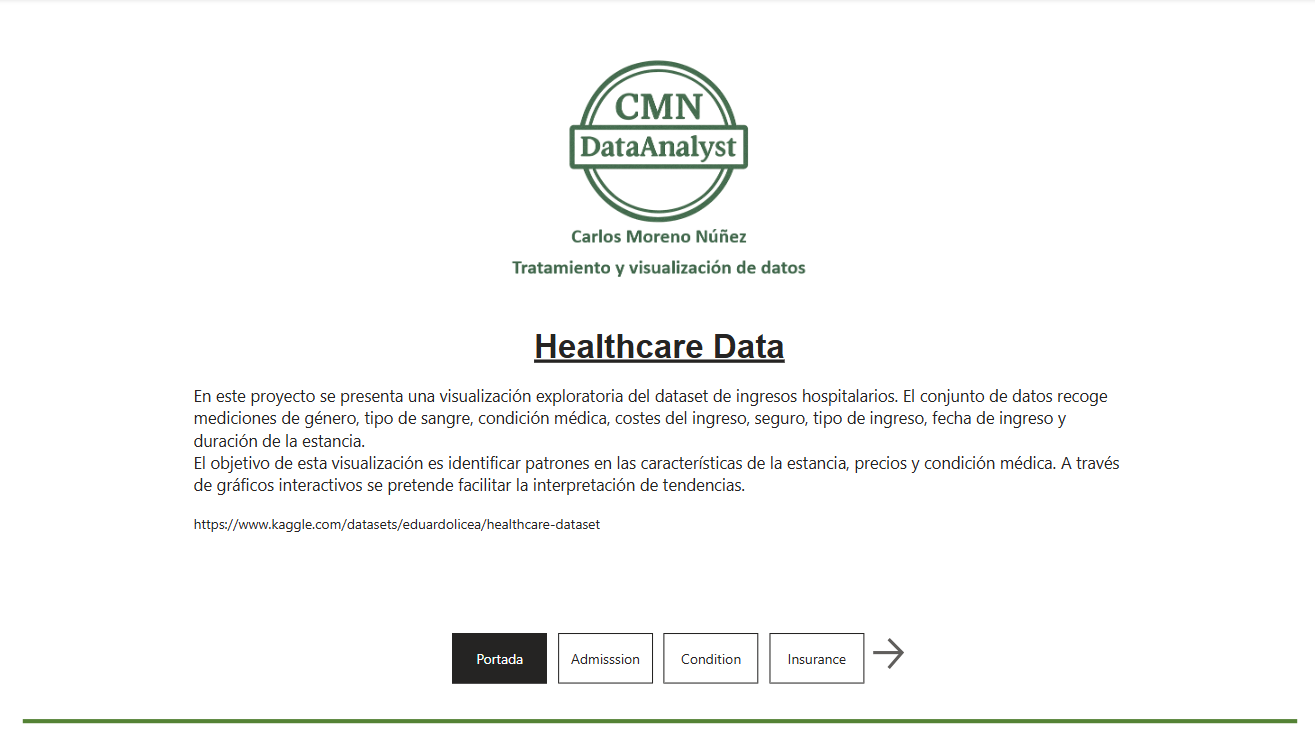

Layout of this report page (visuals, bound fields, positions):
{"tool":"powerbi","page":{"name":"Cover","canvas":[1280,720],"ordinal":0},"visuals":[{"type":"pageNavigator","box":[439.1,612.9,400.5,49.5],"z":0},{"type":"actionButton","box":[839.7,612.9,49.5,39.8],"z":1000},{"type":"image","box":[540,0,199.5,199.5],"z":2000},{"type":"textbox","box":[184.4,183.5,909.8,376.8],"z":3000}]}

Visuals, with their boxes in screenshot pixels (x1, y1, x2, y2), scaled from the page's 1280x720 canvas onto the 1315x733 screenshot:
pageNavigator: 451,624,863,674
actionButton: 863,624,914,664
image: 555,0,760,203
textbox: 189,187,1124,570
